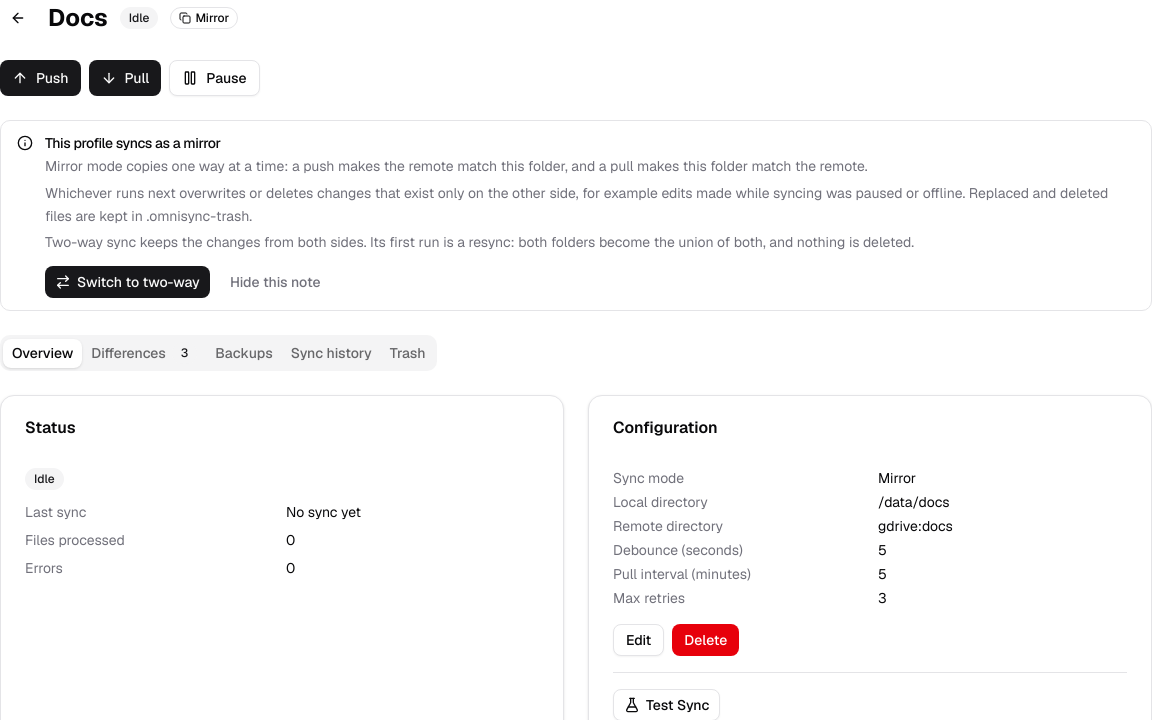
Test: Profile page with an empty diff › Push opens a confirmation naming the profile; Cancel sends no sync request
Click the button "Push" at (40, 78), box [0,60,80,96]
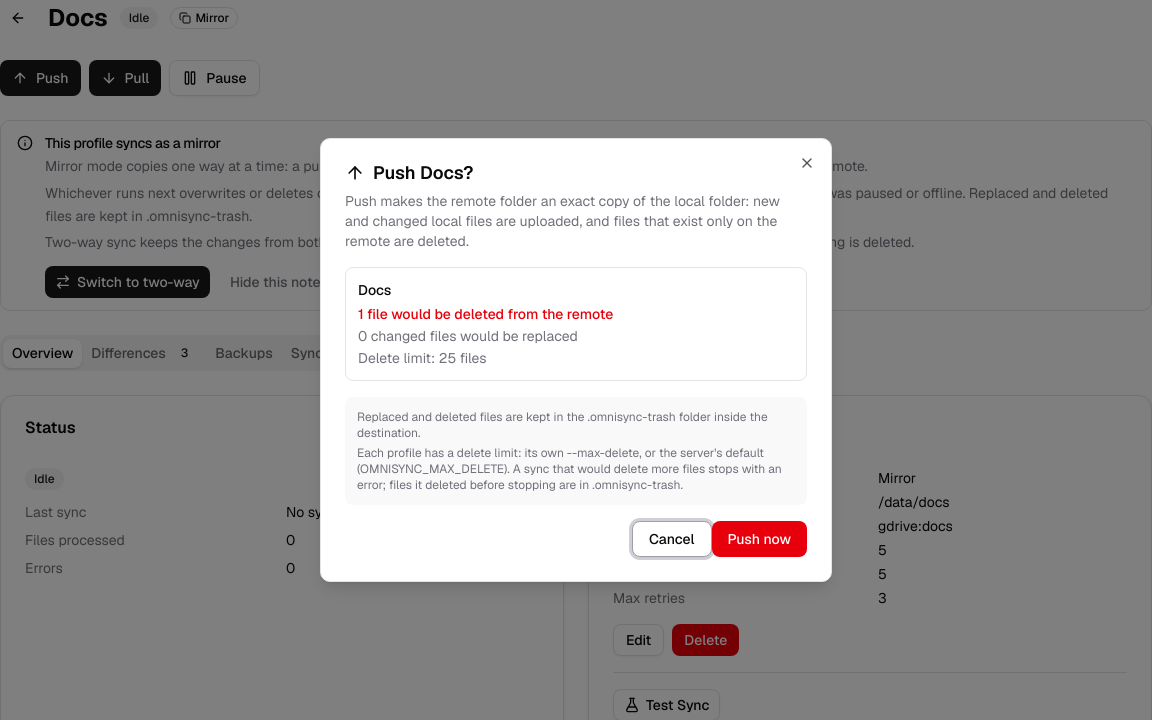
Expected: the heading "Push Docs?" is shown, [345,161,473,184]
Expected: the text "1 file would be deleted from the remote" is shown, [358,305,613,323]
Expected: the text "Delete limit: 25 files" is shown, [358,349,487,367]
Click the button "Cancel" at (672, 539), box [632,521,712,557]
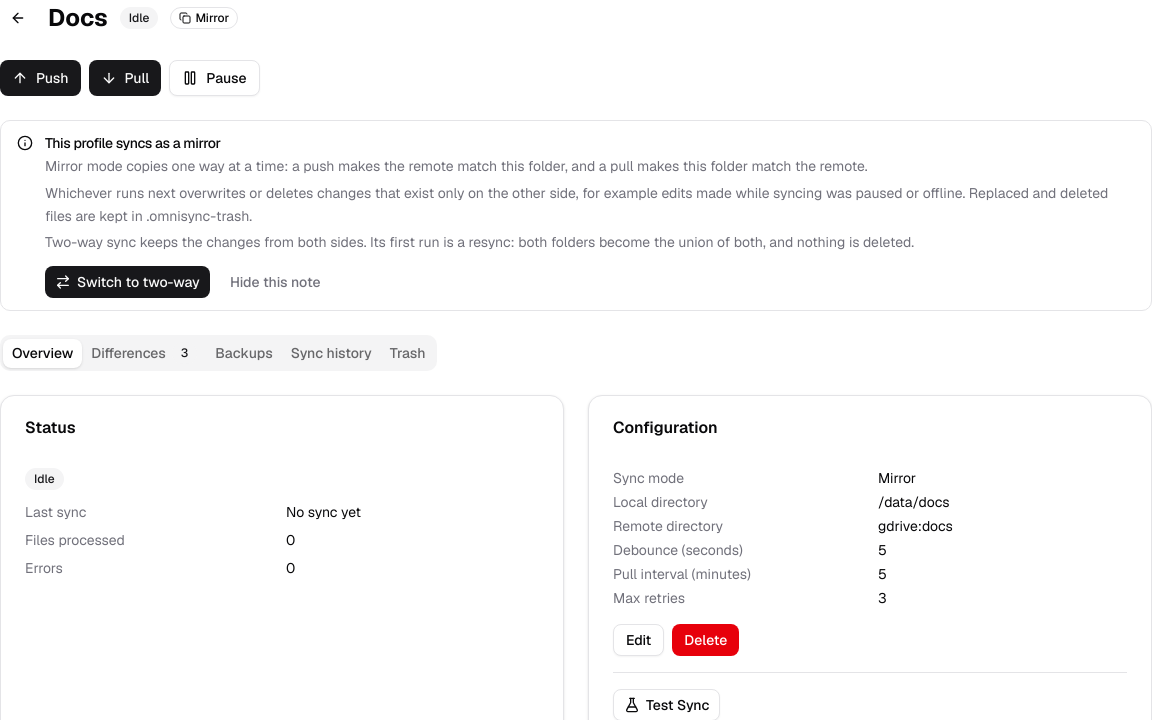
Expected: the dialog is gone
